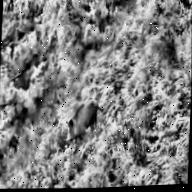boar: (65, 94, 107, 153)
